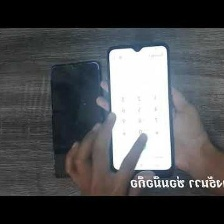phone: (102, 40, 176, 177), (45, 56, 109, 186)
